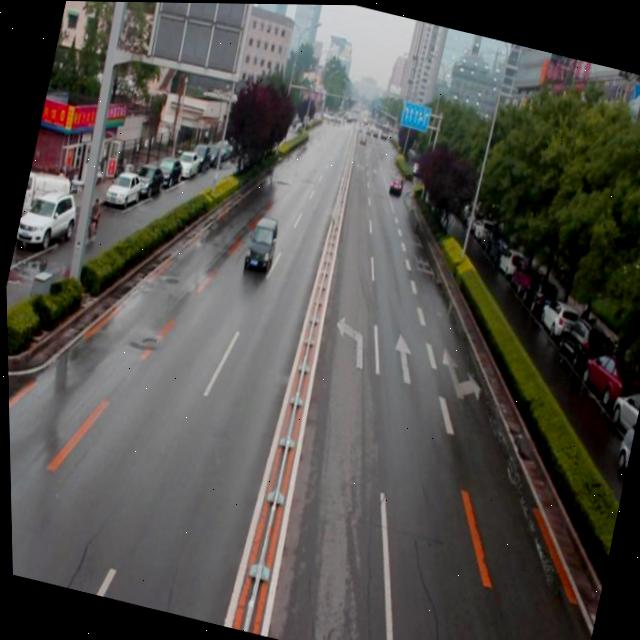car: (385, 169, 405, 195)
truck: (240, 213, 282, 271)
